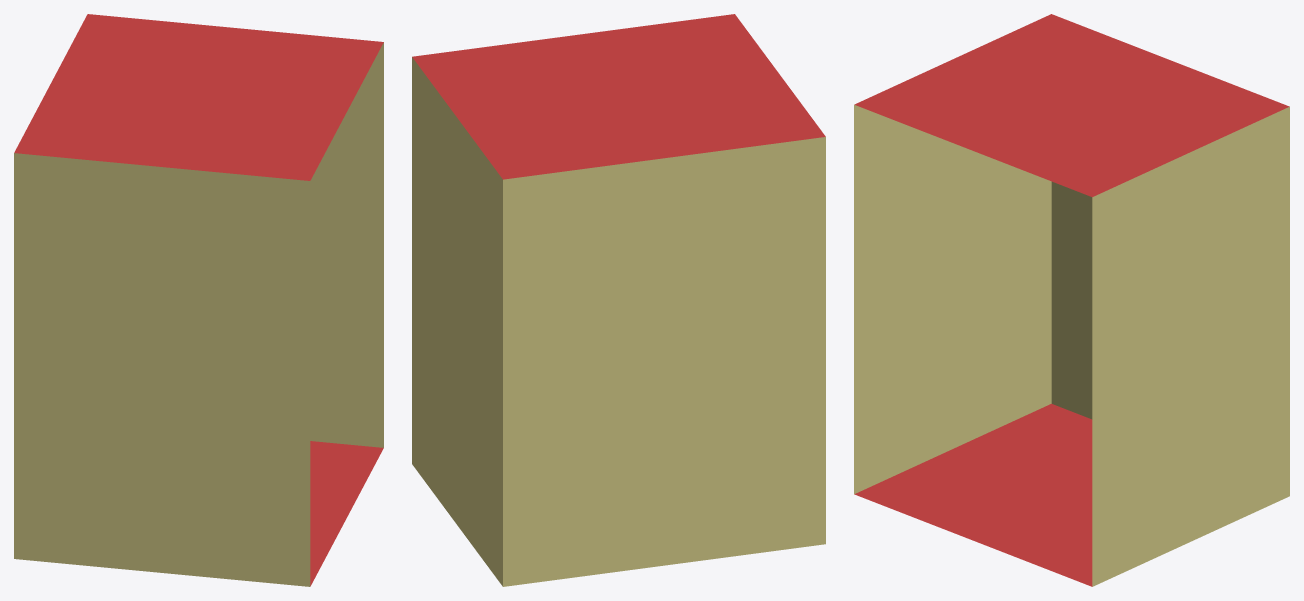
The picture shows the model from 3 angles, left to right: view 1: azimuth 30°, elevation 25°; view 2: azimuth 150°, elevation 25°; view 3: azimuth 270°, elevation 25°; orthographic projection. The views are drawn at different scales.
Parts seen in each view (by area): view 1: group_4, group_3, group_5; view 2: group_4, group_3; view 3: group_4, group_3, group_5.
Part boxes in pixels (x1,y1,x2,y2): group_4: [14, 42, 383, 586]; group_3: [14, 14, 383, 180]; group_5: [310, 441, 383, 586]; group_4: [412, 57, 825, 586]; group_3: [412, 14, 825, 179]; group_4: [854, 104, 1289, 586]; group_3: [854, 14, 1289, 197]; group_5: [854, 403, 1092, 586].
Size of the model in its own units: 8.39 by 8.42 by 8.32.
